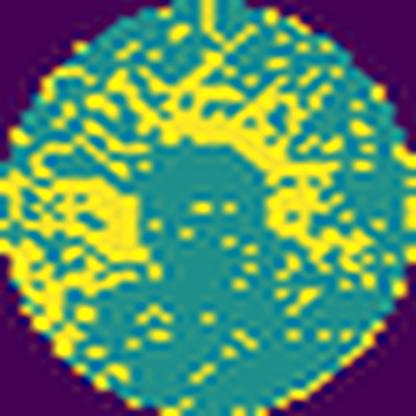Donut: (0, 1, 384, 351)
